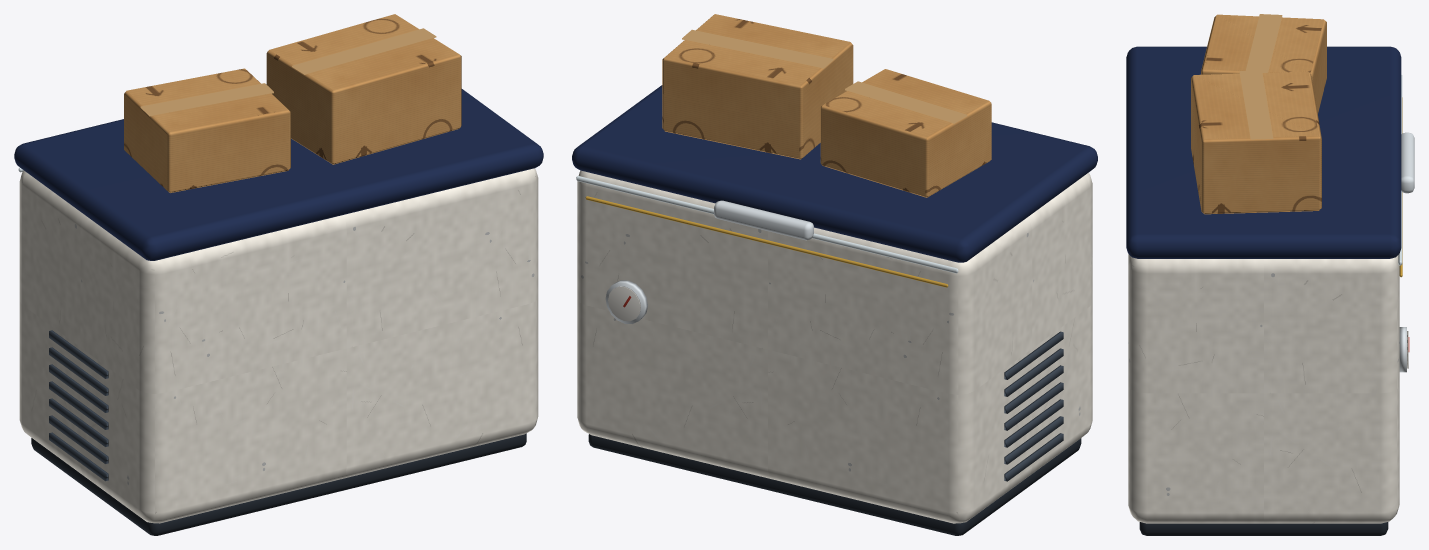
Rendered from coldroom_T1.fbx.
3 renders of one model, left to right at view 1: azimuth 30°, elevation 25°; view 2: azimuth 150°, elevation 25°; view 3: azimuth 270°, elevation 25°, orthographic.
Visible parts, largest first — view 1: Body; view 2: Body; view 3: Body.
Boxes of the visible parts, x1,y1,x2,y2 form: Body: [14, 14, 543, 535]; Body: [572, 14, 1097, 535]; Body: [1126, 14, 1414, 535].
Bounding box in the file's own units: 1.24 × 1.12 × 0.765.
